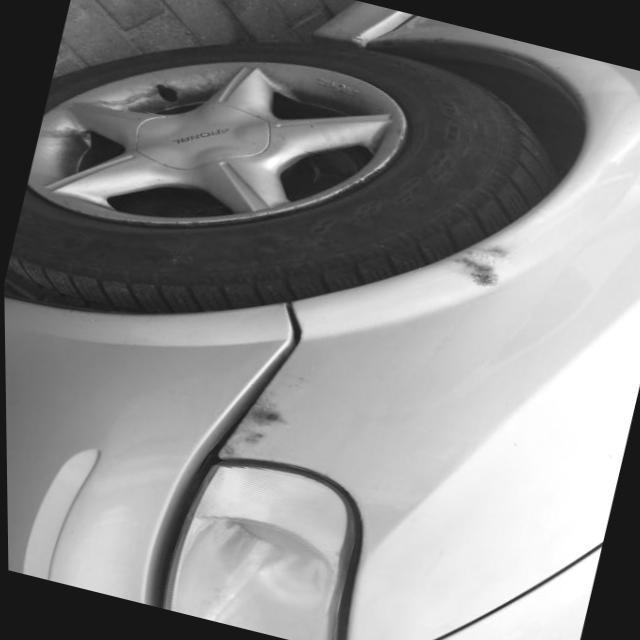Rust: (209, 383, 292, 459), (434, 241, 510, 288)
